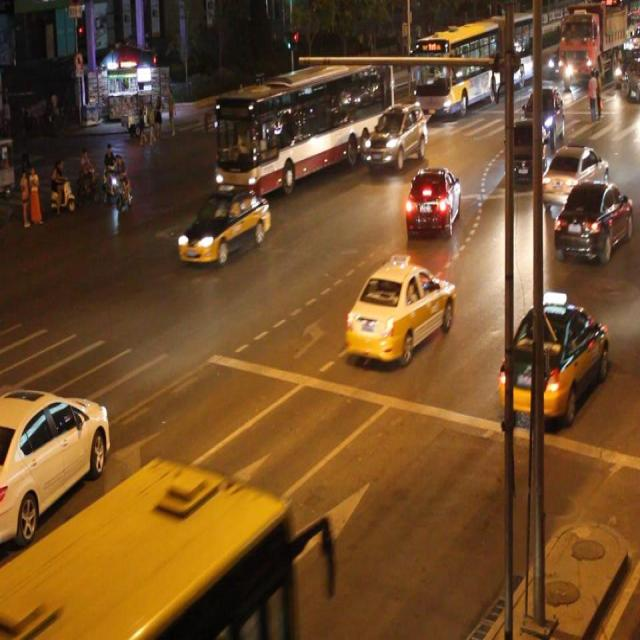car: (1, 388, 110, 541), (501, 301, 605, 417), (345, 260, 454, 362), (178, 190, 268, 266), (551, 179, 630, 261), (541, 142, 607, 205), (404, 164, 459, 239), (364, 105, 426, 168), (505, 118, 544, 191)
van: (1, 455, 290, 640), (216, 63, 388, 188)
